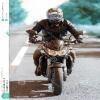motorcycles: (36, 36, 78, 97)
